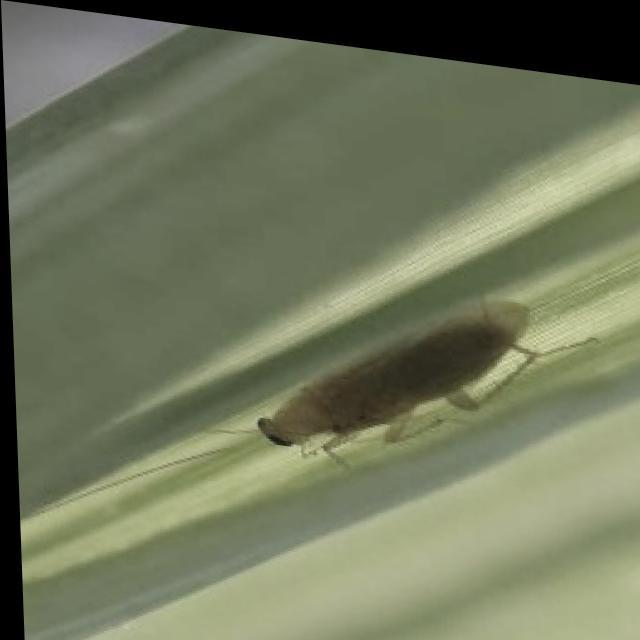cockroach: (249, 288, 600, 473)
